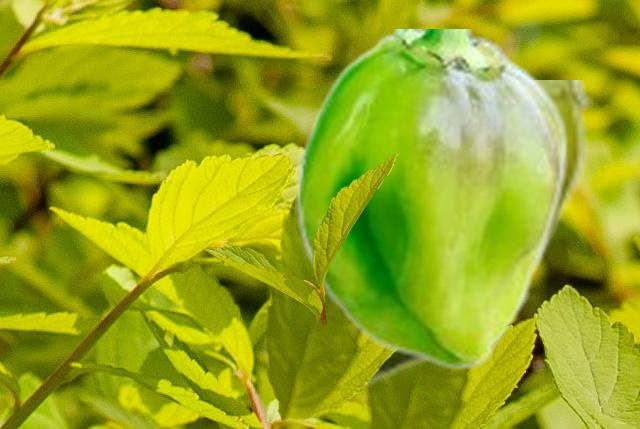green_chili: (261, 80, 591, 386), (295, 29, 569, 370)
